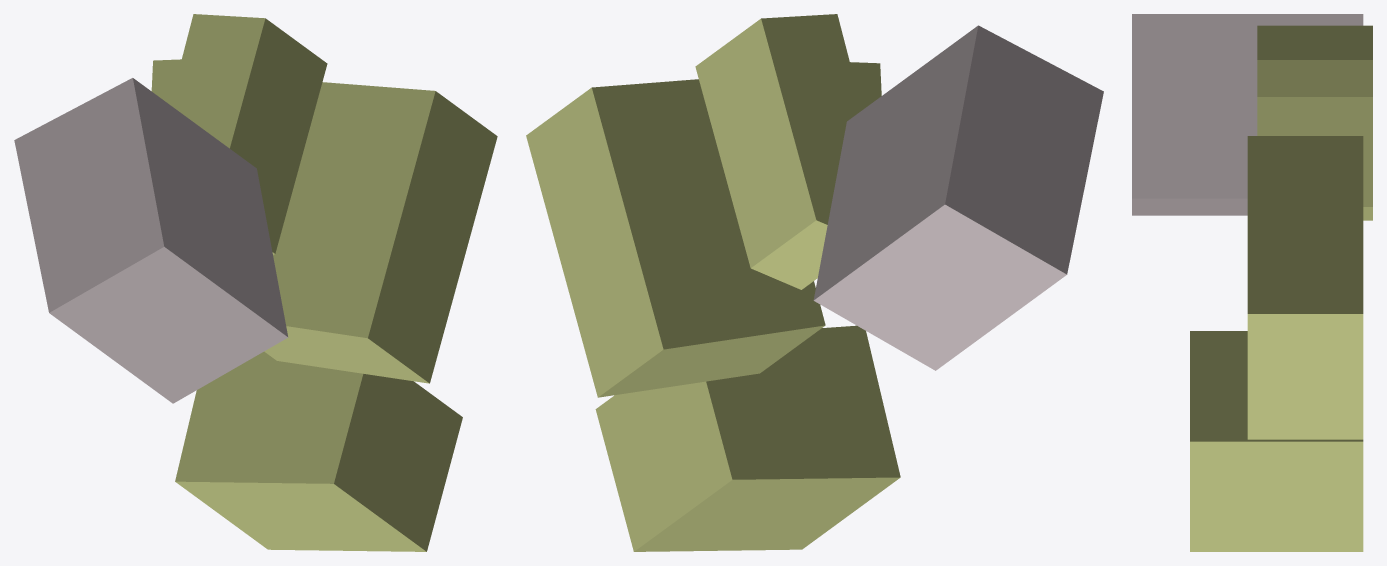
3 renders of one model, left to right at view 1: azimuth 30°, elevation 25°; view 2: azimuth 150°, elevation 25°; view 3: azimuth 270°, elevation 25°, orthographic. The views are drawn at different scales.
Parts seen in each view (by area): view 1: 0_1_0_2_1_3_0_2_3_0; view 2: 0_1_0_2_1_3_0_2_3_0; view 3: 0_1_0_2_1_3_0_2_3_0.
Part boxes in pixels (left/top/right/bottom): 0_1_0_2_1_3_0_2_3_0: left=14, top=14, right=497, bottom=551; 0_1_0_2_1_3_0_2_3_0: left=526, top=14, right=1103, bottom=551; 0_1_0_2_1_3_0_2_3_0: left=1132, top=14, right=1372, bottom=551.
Bounding box in the file's own units: 23.53 × 26.63 × 12.5.
